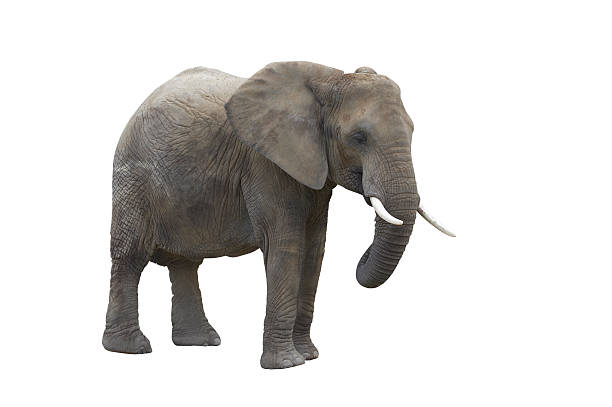africanelephant: (314, 75, 459, 247)
